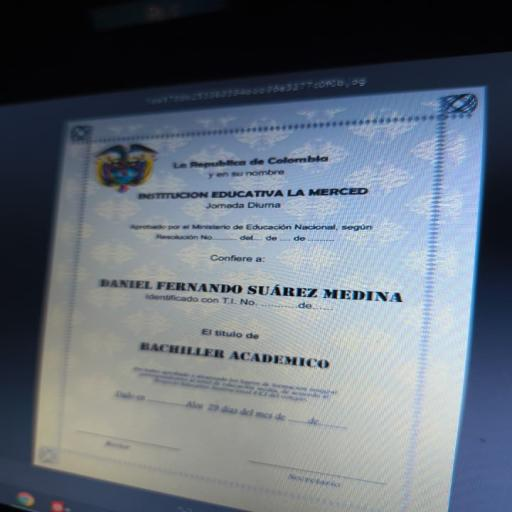bachillerato: (130, 335, 365, 380)
diploma: (36, 115, 443, 512)
escudo: (90, 133, 173, 193)
institucion: (133, 185, 375, 204)
nombre: (95, 273, 415, 317)
